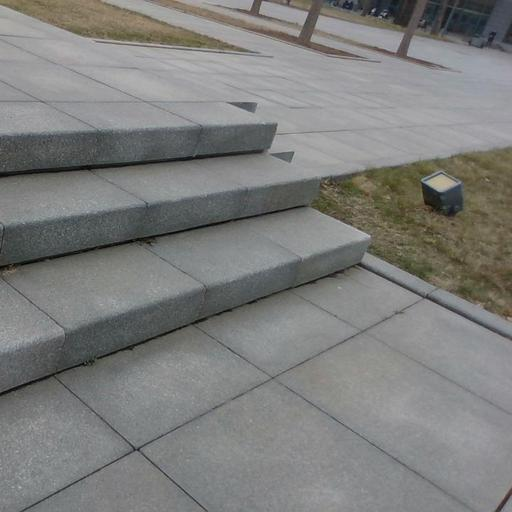stairs: (0, 105, 368, 390)
